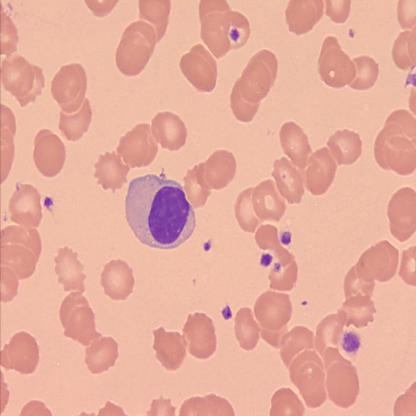Atypical lymphocyte: (122, 167, 199, 252)
